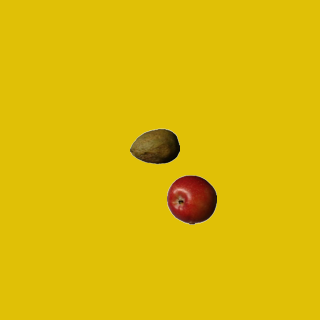Apple Braeburn: (166, 174, 216, 224)
Papaya: (129, 121, 179, 171)
